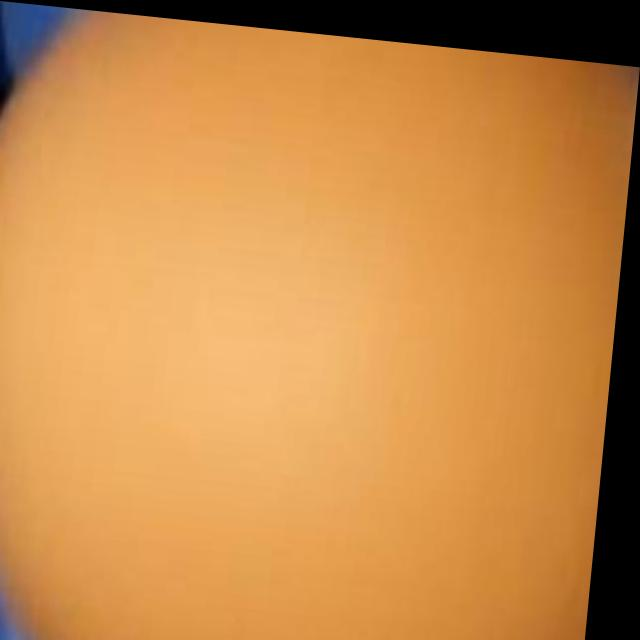fresh: (0, 2, 640, 640)
